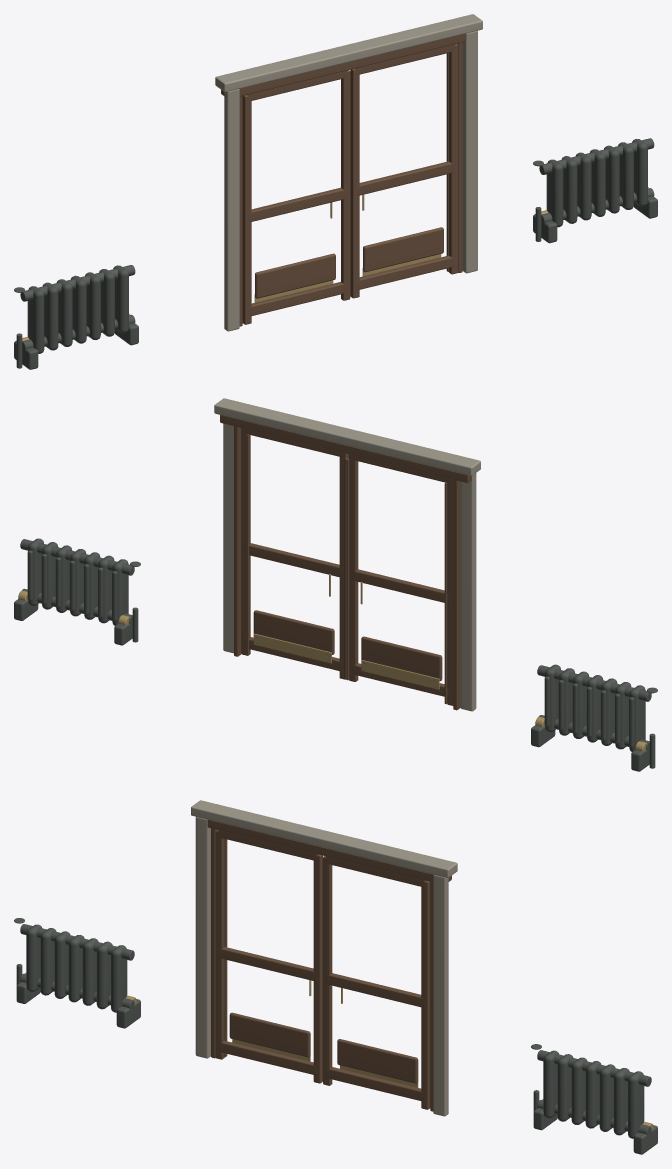
The model's file is R1HallThreshold.fbx.
3 renders of one model, top to bottom at view 1: azimuth 30°, elevation 25°; view 2: azimuth 150°, elevation 25°; view 3: azimuth 330°, elevation 25°, orthographic.
Visible parts, largest first — view 1: R1HallThreshold; view 2: R1HallThreshold; view 3: R1HallThreshold.
Part boxes in pixels (bbox=[...]): R1HallThreshold: bbox=[14, 14, 657, 369]; R1HallThreshold: bbox=[14, 398, 657, 771]; R1HallThreshold: bbox=[14, 800, 657, 1154].
Bounding box in the file's own units: 722 × 271 × 51.3.
